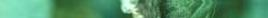Tomato leaf late blight: (96, 0, 233, 18)
